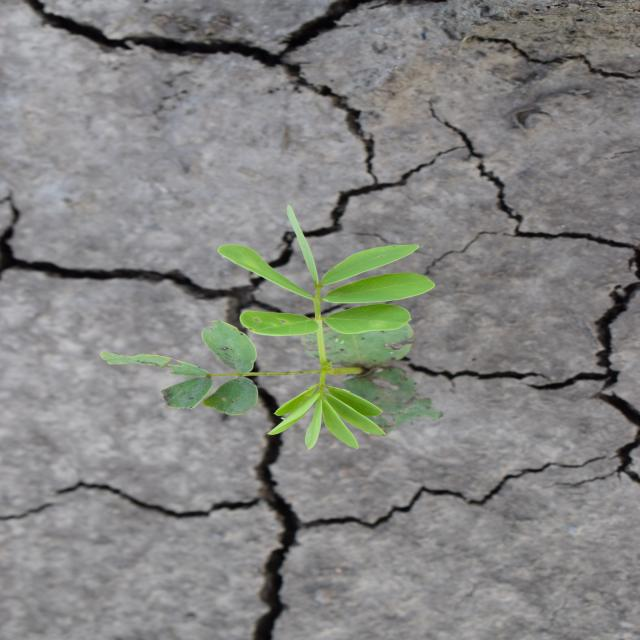Sicklepod: (98, 204, 440, 452)
